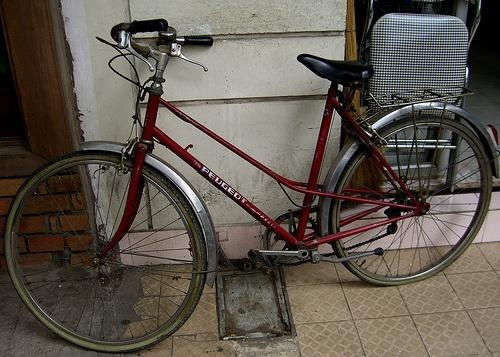bicycle: (4, 18, 500, 354)
